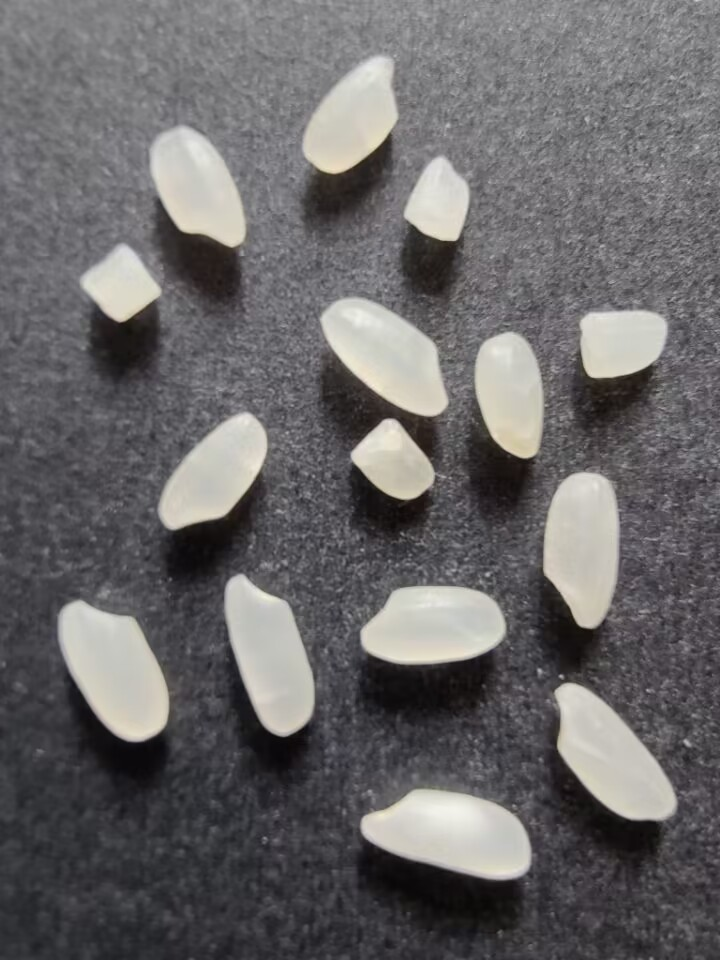broken: (349, 416, 441, 505), (573, 306, 670, 379), (81, 242, 164, 327), (399, 152, 474, 246)
rice: (547, 680, 683, 825), (351, 782, 535, 885), (52, 598, 176, 747), (317, 294, 452, 420), (221, 570, 318, 741), (151, 409, 269, 534), (540, 467, 625, 634), (355, 583, 509, 666), (146, 124, 247, 250), (302, 52, 402, 178), (471, 330, 549, 463)
